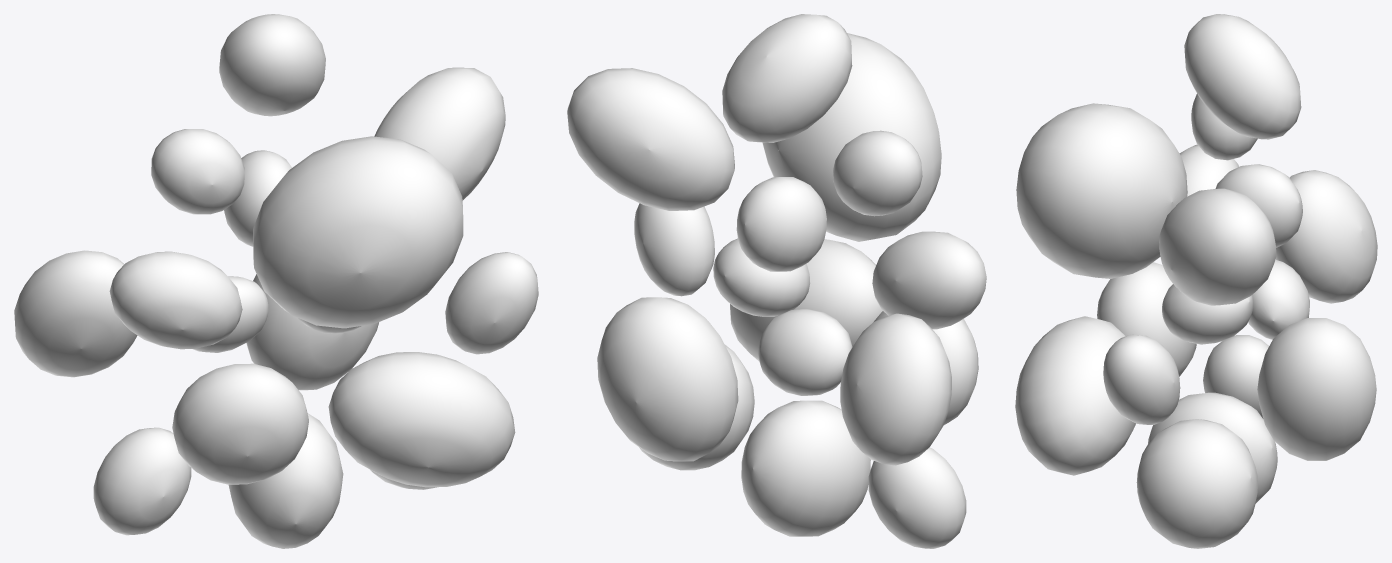
The model's file is aphanocapsa_dynamic_outside_12_3_15.fbx.
3 views of the same model, side by side, from view 1: azimuth 30°, elevation 25°; view 2: azimuth 150°, elevation 25°; view 3: azimuth 270°, elevation 25° (orthographic). The views are drawn at different scales.
Visible parts, largest first — view 1: polySurface158.001; view 2: polySurface158.001; view 3: polySurface158.001.
Boxes of the visible parts, box(x1,y1,x2,y2) form: polySurface158.001: box(14, 14, 538, 548); polySurface158.001: box(567, 14, 986, 548); polySurface158.001: box(1015, 14, 1377, 548).
Size of the model in its own units: 7.6 by 8.87 by 5.94.
